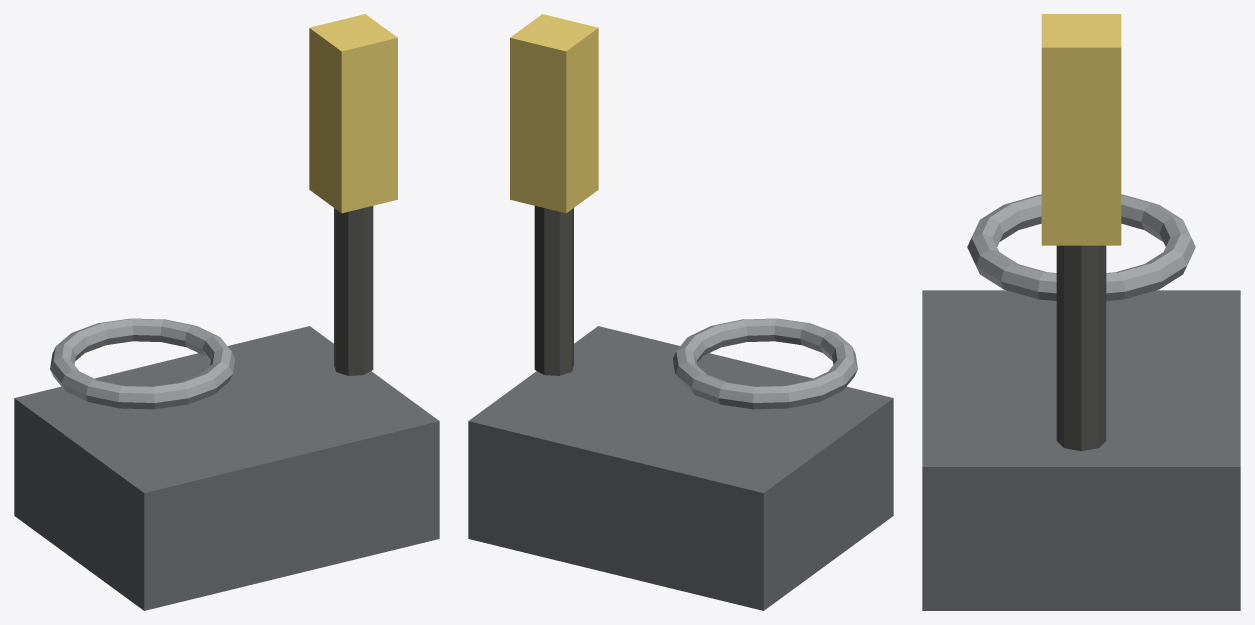
File: solder_station_02.glb
3 views of the same model, side by side, from view 1: azimuth 30°, elevation 25°; view 2: azimuth 150°, elevation 25°; view 3: azimuth 270°, elevation 25° (orthographic). The views are drawn at different scales.
Parts seen in each view (by area): view 1: base, handle, holder, iron; view 2: base, handle, holder, iron; view 3: base, handle, iron, holder.
Part boxes in pixels (left/top/right/bottom): base: left=14, top=326, right=439, bottom=610; handle: left=309, top=14, right=397, bottom=213; holder: left=50, top=318, right=234, bottom=409; iron: left=334, top=206, right=373, bottom=375; base: left=468, top=326, right=893, bottom=610; handle: left=510, top=14, right=598, bottom=213; holder: left=673, top=318, right=857, bottom=409; iron: left=534, top=206, right=573, bottom=375; base: left=922, top=290, right=1240, bottom=610; handle: left=1041, top=14, right=1121, bottom=245; iron: left=1056, top=245, right=1106, bottom=451; holder: left=967, top=194, right=1195, bottom=300.
Size of the model in its own units: 0.455 by 0.63 by 0.32.
